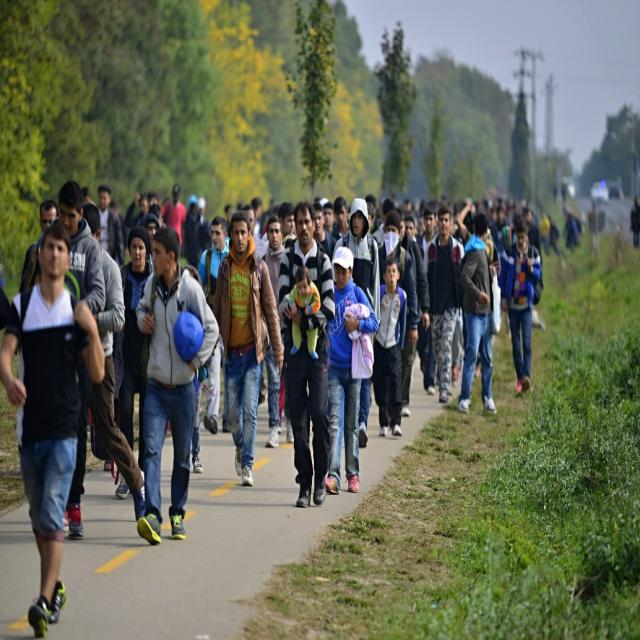body: (0, 217, 111, 639), (147, 180, 639, 246), (132, 222, 220, 547), (30, 177, 107, 538), (79, 200, 149, 527), (210, 208, 286, 486), (276, 196, 337, 511), (317, 243, 381, 496), (330, 193, 384, 453), (112, 224, 157, 500), (254, 211, 301, 449), (455, 210, 500, 417), (422, 204, 466, 406), (498, 214, 545, 394), (394, 205, 431, 418), (197, 214, 231, 435), (371, 254, 409, 441), (431, 209, 467, 391), (180, 262, 207, 473), (378, 209, 419, 346), (416, 200, 440, 396), (19, 199, 59, 294), (284, 262, 320, 362), (95, 184, 125, 267), (158, 180, 187, 262), (180, 200, 204, 272), (311, 199, 338, 263), (241, 203, 269, 259), (372, 197, 396, 253), (331, 194, 352, 242), (124, 190, 150, 227), (276, 200, 298, 240), (545, 214, 564, 257), (0, 254, 11, 328), (402, 215, 418, 242), (322, 202, 335, 234), (81, 185, 97, 208), (109, 201, 122, 218)
